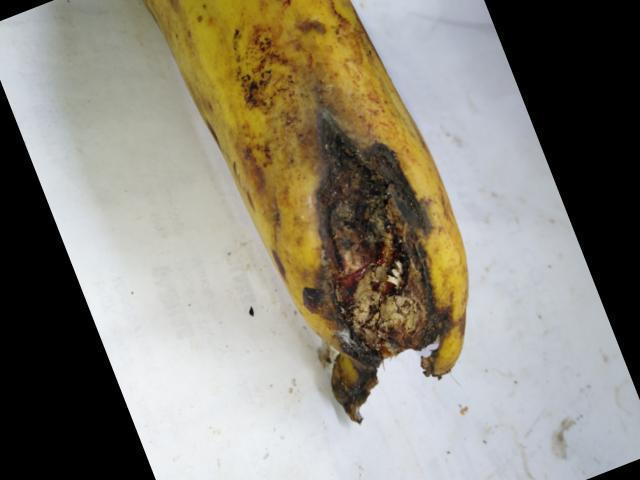rotten: (243, 100, 485, 413)
